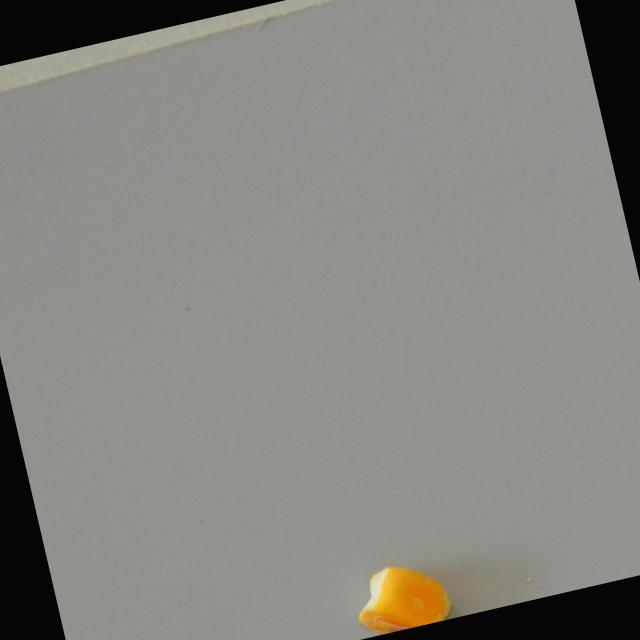dañado: (347, 551, 457, 639)
